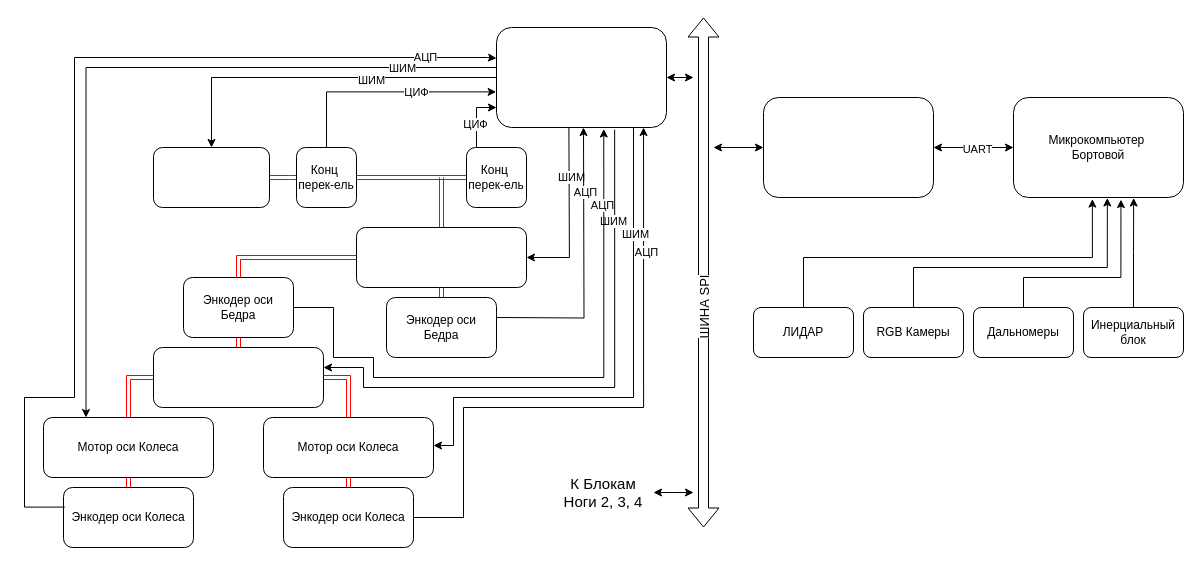
Some shapes in this 1201 by 565 pixel diagram are drawn without their labels. Here are the shapes that lost their labels. From the top down, the centre of each, then its label:
At point 581,77: "Блок управления Ноги 1 STM32".
At point 848,147: "Блок управления Платформой STM32".
At point 211,177: "Мотор Фиксатора оси Бедра".
At point 441,257: "Мотор оси Бедра".
At point 238,377: "Мотор оси Колена".
